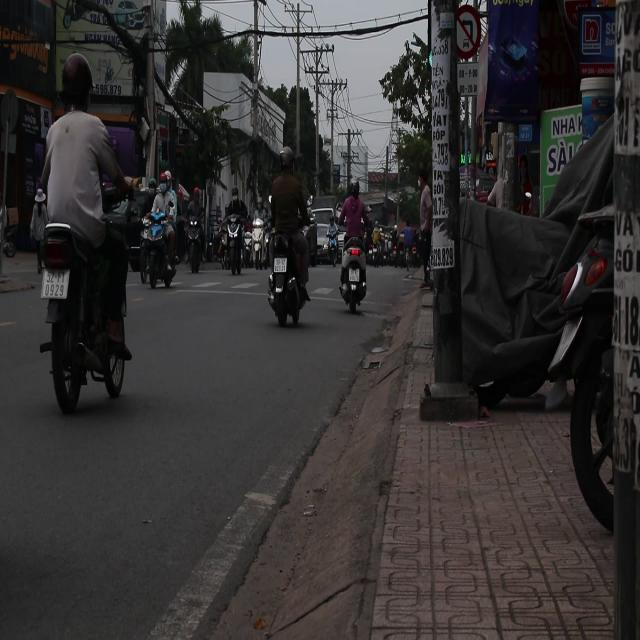motorbike: (540, 167, 638, 565), (39, 218, 132, 414), (263, 229, 311, 328), (139, 210, 179, 289), (339, 236, 371, 313), (217, 212, 250, 274), (310, 224, 338, 267), (185, 218, 206, 274), (251, 220, 268, 269), (376, 234, 395, 267), (324, 230, 341, 266), (371, 225, 386, 264)
